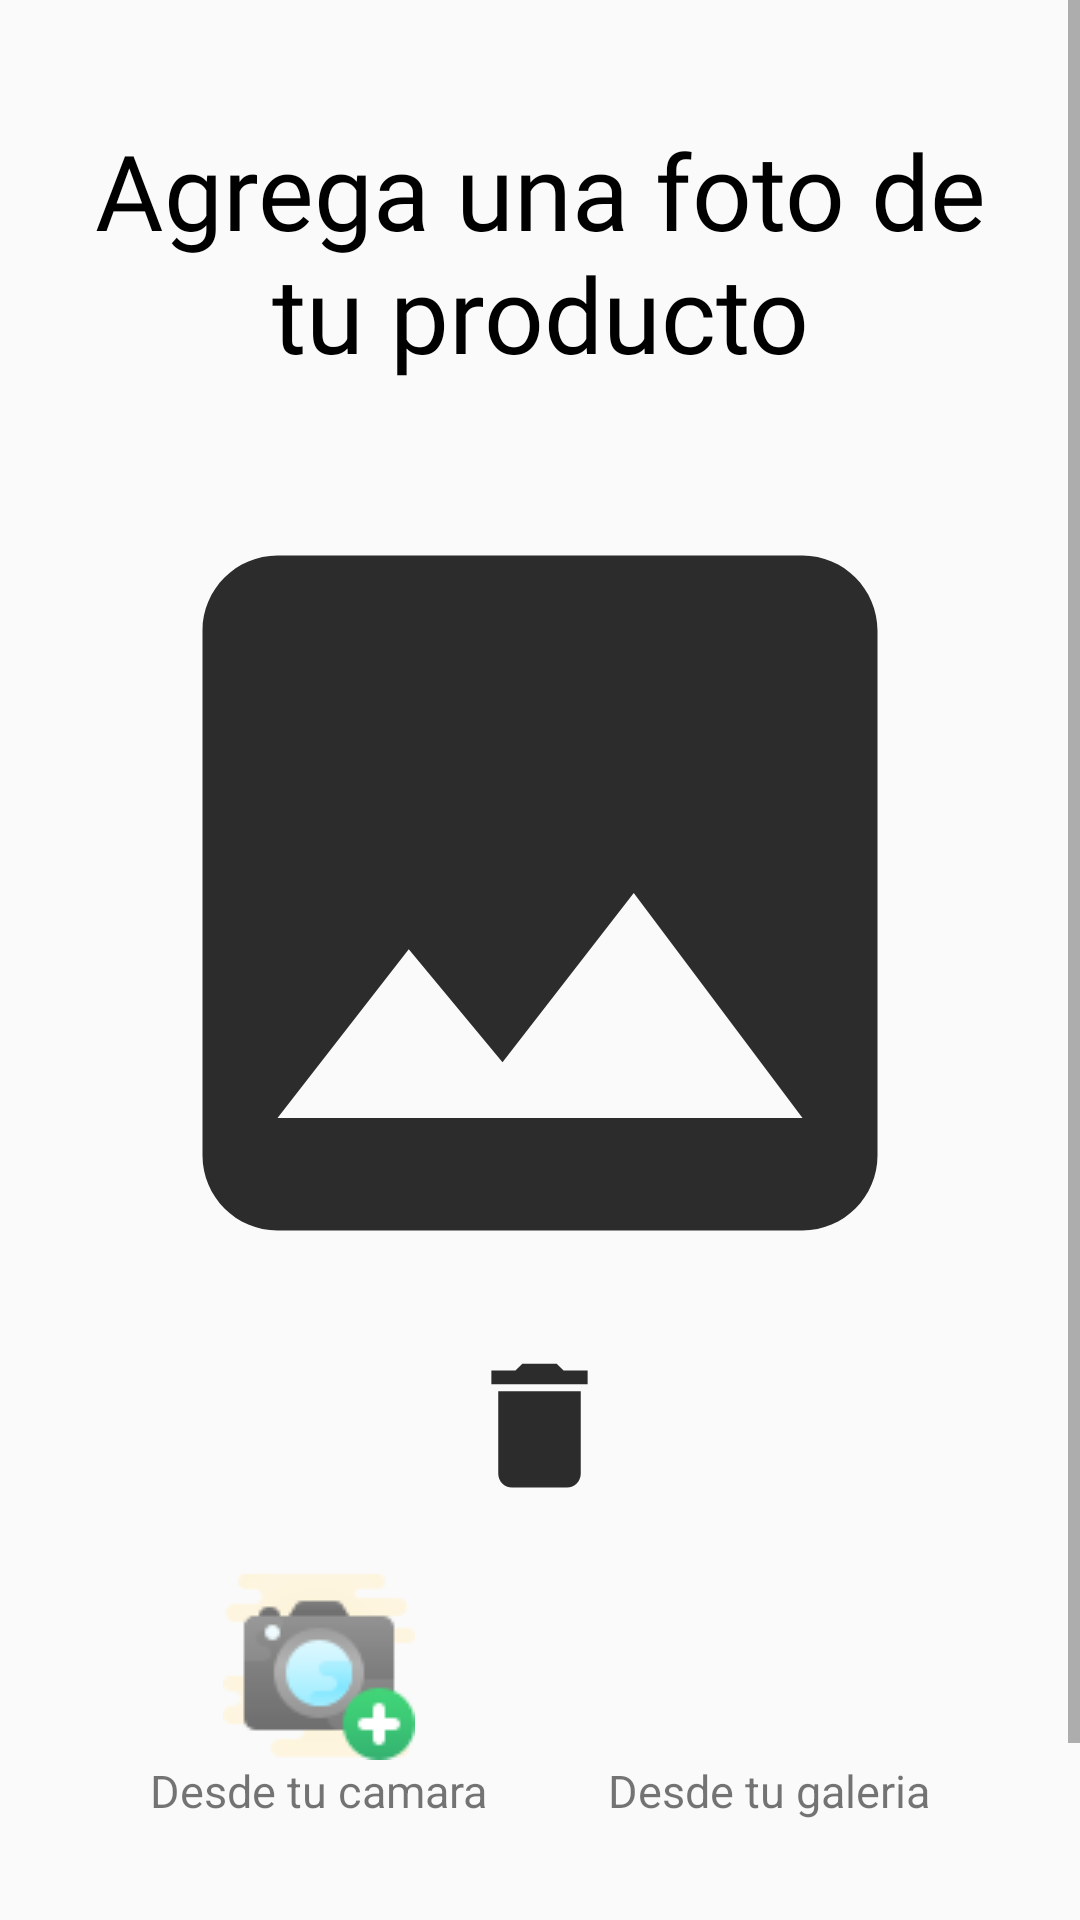

Icons on this 1080×1920 Android screen, each with its box as [x1=x1, y1=y1, x2=x2, y2=y2]:
delete: [x1=491, y1=1363, x2=588, y2=1488]
